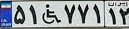character: (39, 2, 62, 26), (76, 1, 92, 25), (63, 1, 78, 26), (13, 3, 27, 26), (91, 1, 104, 25), (27, 3, 41, 25), (118, 5, 129, 26), (107, 7, 118, 26)
